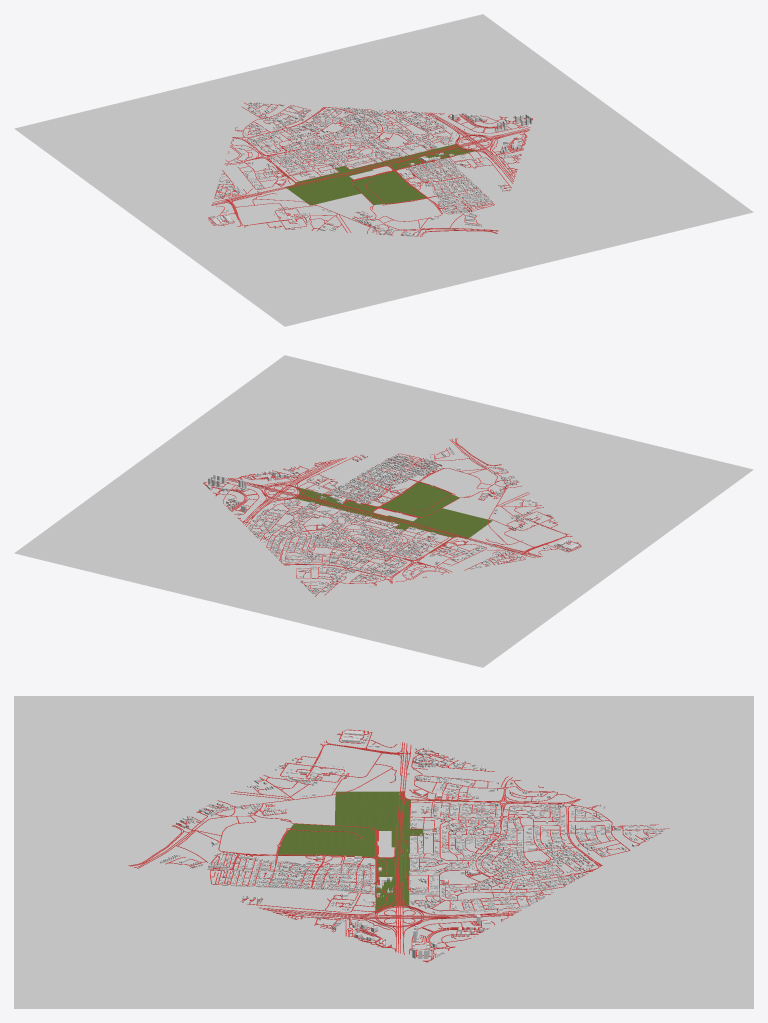
File: MAG_11_mini_map.glb
3 views of the same model, one above another, from view 1: azimuth 30°, elevation 25°; view 2: azimuth 150°, elevation 25°; view 3: azimuth 270°, elevation 25° (orthographic). The views are drawn at different scales.
Parts seen in each view (by area): view 1: land, build, road, tree; view 2: land, build, road, tree; view 3: land, build, road, tree.
Part boxes in pixels (bbox=[...]): land: bbox=[14, 14, 753, 326]; build: bbox=[210, 102, 531, 236]; road: bbox=[208, 102, 532, 236]; tree: bbox=[276, 144, 477, 205]; land: bbox=[14, 355, 753, 667]; build: bbox=[207, 446, 580, 594]; road: bbox=[203, 438, 581, 596]; tree: bbox=[293, 482, 492, 552]; land: bbox=[14, 696, 753, 1008]; build: bbox=[160, 729, 663, 958]; road: bbox=[128, 729, 669, 962]; tree: bbox=[278, 791, 465, 912].
Size of the model in its own units: 8931 by 154 by 8931.
Materials: 4 (1 with a texture image).
